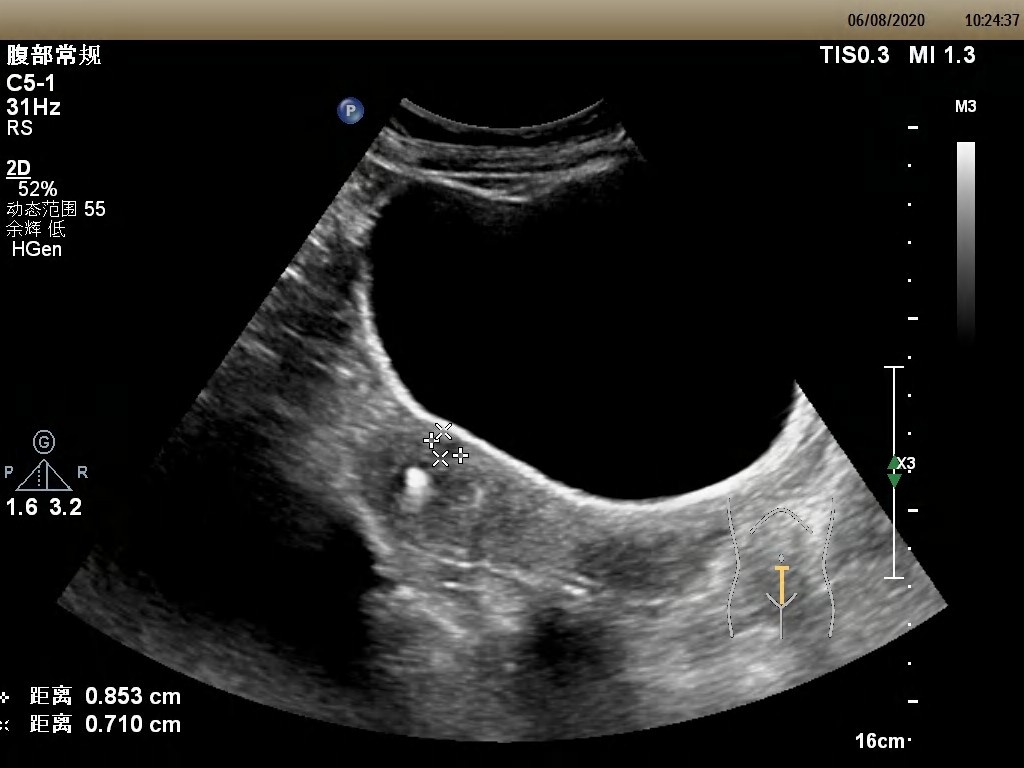肌瘤: (432, 432, 463, 461)
